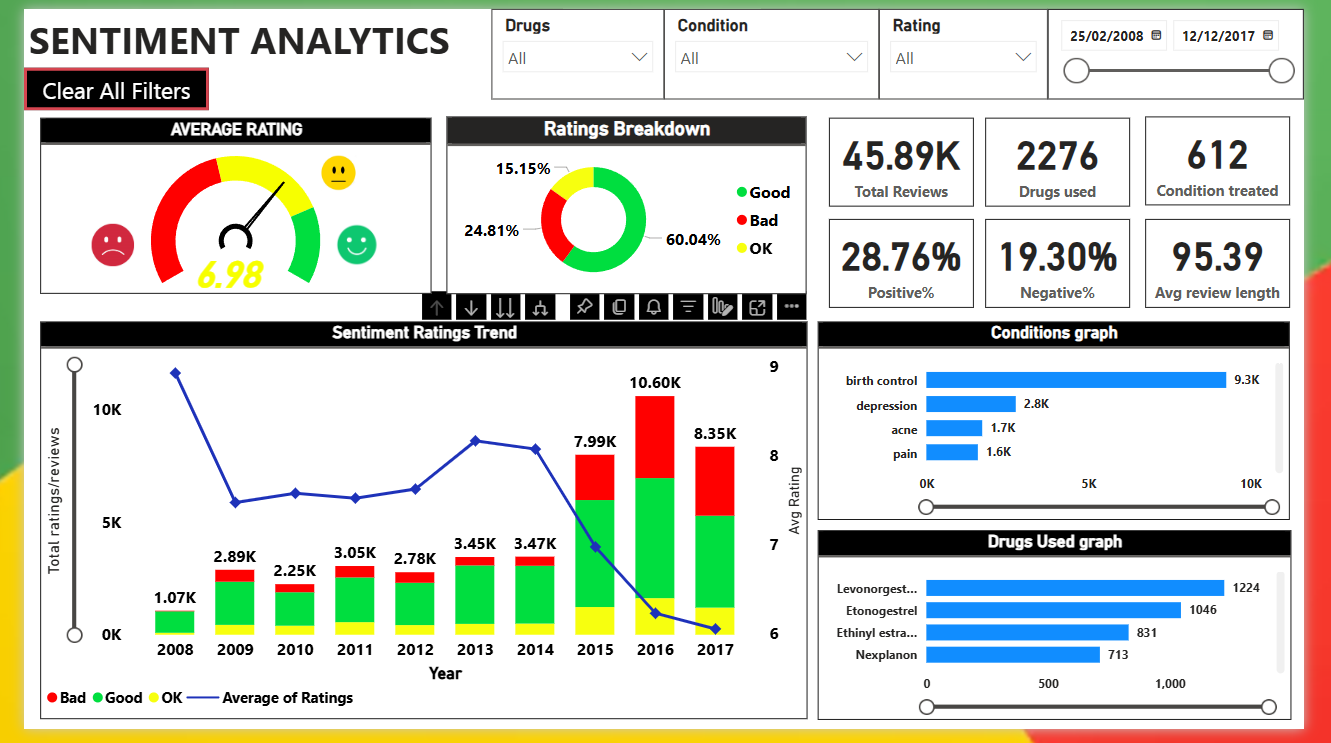

What the dashboard file says about the page in this screenshot:
{"tool":"powerbi","page":{"name":"Page 1","canvas":[1280,720],"ordinal":0},"visuals":[{"type":"slicer","title":"Drugs slicer","fields":{"Values":["Main table.drug_name"]},"box":[467.5,0,172.5,90],"z":0,"group":"g2"},{"type":"Tachometer1474636471549","title":"                      AVERAGE RATING","fields":{"Y":["Avg(Main table.rating)"],"StartValue":["Main table.One"],"EndValue":["Main table.Ten"]},"box":[16.2,108.8,391.2,176.2],"z":0,"group":"g1"},{"type":"slicer","title":"Condition Slicer","fields":{"Values":["Main table.condition"]},"box":[640,0,215,90],"z":1000,"group":"g2"},{"type":"slicer","title":"Ratings slicer","fields":{"Values":["Main table.rating"]},"box":[855,0,168.8,90],"z":2000,"group":"g2"},{"type":"image","title":"Green face","box":[296.2,210,72.5,52.5],"z":2000,"group":"g1"},{"type":"slicer","title":"Timeline Slicer","fields":{"Values":["Main table.Date"]},"box":[1023.7,0,256.2,90],"z":3000,"group":"g2"},{"type":"image","title":"Yellow Face","box":[283.7,141.3,62.5,45],"z":3000,"group":"g1"},{"type":"image","title":"Red face","box":[61.2,210,55,52.5],"z":4000,"group":"g1"},{"type":"card","title":" Rating box","fields":{"Values":["Measures Table.Average rating"]},"box":[61.2,238.8,285,46.2],"z":5000,"group":"g1"},{"type":"clusteredBarChart","title":"Conditions graph","fields":{"Y":["CountNonNull(Main table.patient_id)"],"Category":["Main table.condition"]},"box":[793.6,313,472,198.1],"z":5250},{"type":"clusteredBarChart","title":"Drugs Used graph","fields":{"Y":["CountNonNull(Main table.patient_id)"],"Category":["Main table.drug_name"]},"box":[793.6,520.9,473.2,189.5],"z":5500},{"type":"lineStackedColumnComboChart","title":"Sentiment Ratings Trend","fields":{"Category":["Rating & status.Date-.Variation.Date Hierarchy.Year","Rating & status.Date-.Variation.Date Hierarchy.Quarter","Rating & status.Date-.Variation.Date Hierarchy.Month"],"Y":["CountNonNull(Rating & status.Review id)"],"Series":["Rating & status.Status"],"Y2":["Avg(Rating & status.Ratings)"]},"box":[16.2,312.5,767.5,397.5],"z":6000},{"type":"card","title":"Avg review length","fields":{"Values":["Measures Table.Avg review length"]},"box":[1121.2,210,145,88.8],"z":12000},{"type":"card","title":"Negative%","fields":{"Values":["Negative keywords.Negative%"]},"box":[961.2,210,145,88.8],"z":12250},{"type":"card","title":"Positive%","fields":{"Values":["Positive kywords.Positive%"]},"box":[805,210,145,88.8],"z":12500},{"type":"card","title":"Conditions treated","fields":{"Values":["Measures Table.Condition treated"]},"box":[1121.2,107.5,145,88.8],"z":14375},{"type":"card","title":"Drugs used","fields":{"Values":["Measures Table.Drugs used"]},"box":[961.2,108.8,145,88.8],"z":14406},{"type":"card","title":"Total reviews","fields":{"Values":["Measures Table.Total Reviews"]},"box":[805,108.8,145,88.8],"z":14437},{"type":"donutChart","title":"Ratings Breakdown","fields":{"Y":["CountNonNull(Rating & status.Review id)"],"Category":["Rating & status.Status"]},"box":[422.5,107.5,360,177.5],"z":14468},{"type":"group","id":"g1","title":"Average Rating","box":[16.2,108.8,391.2,176.2],"z":14484},{"type":"group","id":"g2","title":"Slicer group","box":[467.5,0,812.5,90],"z":14500},{"type":"textbox","title":"Title","box":[0,0,467.5,80],"z":15000},{"type":"shape","title":"Filter","box":[0,58.8,185,42.5],"z":16000}]}

Visuals, with their boxes in screenshot pixels (x1, y1, x2, y2), scaled from the page's 1280x720 canvas onto the 1331x743 screenshot:
"Drugs slicer" slicer: <bbox>486, 0, 666, 93</bbox>
"                      AVERAGE RATING" Tachometer1474636471549: <bbox>17, 112, 424, 294</bbox>
"Condition Slicer" slicer: <bbox>666, 0, 889, 93</bbox>
"Ratings slicer" slicer: <bbox>889, 0, 1065, 93</bbox>
"Green face" image: <bbox>308, 217, 383, 271</bbox>
"Timeline Slicer" slicer: <bbox>1064, 0, 1330, 93</bbox>
"Yellow Face" image: <bbox>295, 146, 360, 192</bbox>
"Red face" image: <bbox>64, 217, 121, 271</bbox>
" Rating box" card: <bbox>64, 246, 360, 294</bbox>
"Conditions graph" clusteredBarChart: <bbox>825, 323, 1316, 527</bbox>
"Drugs Used graph" clusteredBarChart: <bbox>825, 538, 1317, 733</bbox>
"Sentiment Ratings Trend" lineStackedColumnComboChart: <bbox>17, 322, 815, 733</bbox>
"Avg review length" card: <bbox>1166, 217, 1317, 308</bbox>
"Negative%" card: <bbox>999, 217, 1150, 308</bbox>
"Positive%" card: <bbox>837, 217, 988, 308</bbox>
"Conditions treated" card: <bbox>1166, 111, 1317, 203</bbox>
"Drugs used" card: <bbox>999, 112, 1150, 204</bbox>
"Total reviews" card: <bbox>837, 112, 988, 204</bbox>
"Ratings Breakdown" donutChart: <bbox>439, 111, 814, 294</bbox>
"Average Rating" group: <bbox>17, 112, 424, 294</bbox>
"Slicer group" group: <bbox>486, 0, 1330, 93</bbox>
"Title" textbox: <bbox>0, 0, 486, 83</bbox>
"Filter" shape: <bbox>0, 61, 192, 105</bbox>
